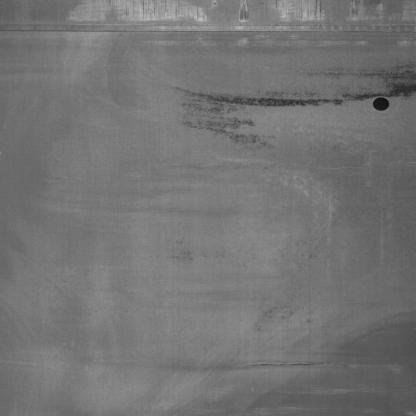welding_line: (2, 13, 416, 45)
